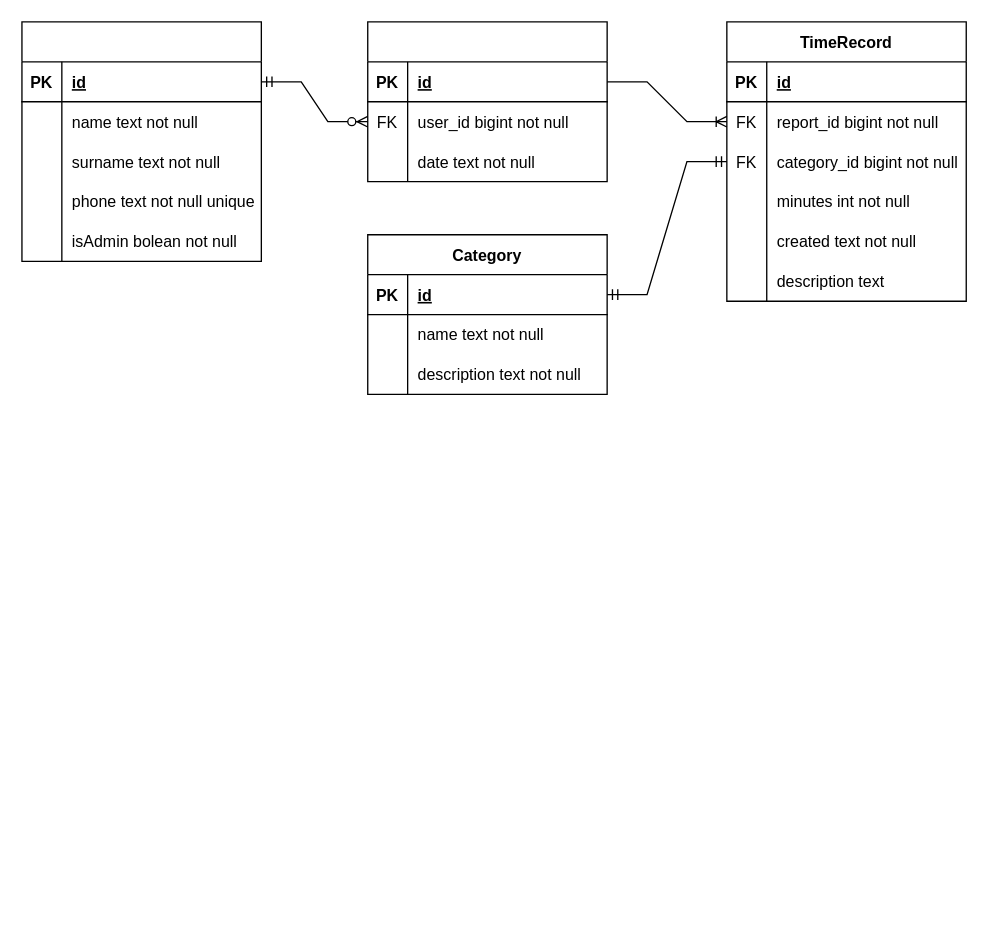
Some shapes in this 988 by 948 pixel diagram are drawn without their labels. Each missing label, with the box of its shape:
Report: (366, 21, 607, 182)
User: (21, 21, 261, 261)
